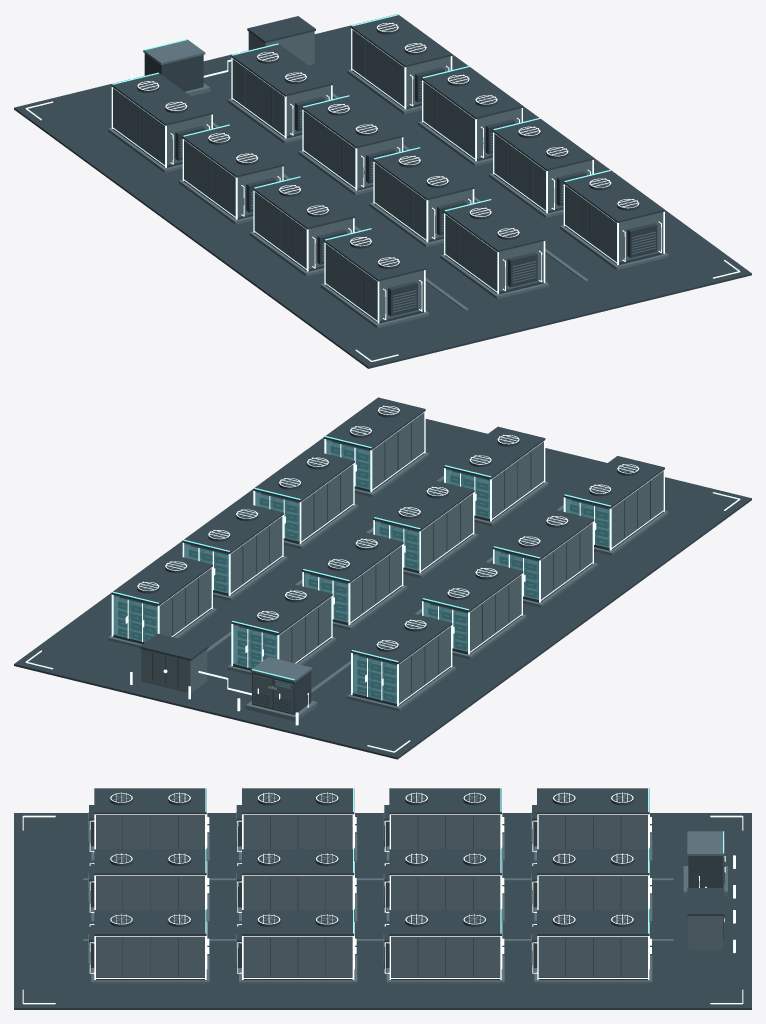
File: battery_storage.glb
The picture shows the model from 3 angles, top to bottom: view 1: azimuth 30°, elevation 25°; view 2: azimuth 150°, elevation 25°; view 3: azimuth 270°, elevation 25°; orthographic projection. The views are drawn at different scales.
Visible parts, largest first — view 1: battery_storage_graphite, battery_storage_graphite_light, battery_storage_white, battery_storage_edge; view 2: battery_storage_graphite, battery_storage_graphite_light, battery_storage_glass, battery_storage_white, battery_storage_edge; view 3: battery_storage_graphite, battery_storage_graphite_light, battery_storage_white, battery_storage_edge.
Part boxes in pixels (bbox=[...]): battery_storage_graphite: bbox=[14, 14, 751, 368]; battery_storage_graphite_light: bbox=[108, 24, 668, 328]; battery_storage_white: bbox=[25, 23, 740, 361]; battery_storage_edge: bbox=[112, 14, 610, 240]; battery_storage_graphite: bbox=[14, 397, 751, 759]; battery_storage_graphite_light: bbox=[108, 407, 668, 721]; battery_storage_glass: bbox=[114, 441, 609, 703]; battery_storage_white: bbox=[25, 405, 740, 752]; battery_storage_edge: bbox=[112, 436, 610, 680]; battery_storage_graphite: bbox=[14, 788, 751, 1009]; battery_storage_graphite_light: bbox=[83, 794, 727, 984]; battery_storage_white: bbox=[22, 792, 743, 1004]; battery_storage_edge: bbox=[205, 788, 723, 933].
Bounding box in the file's own units: 50 × 6.54 × 80.
